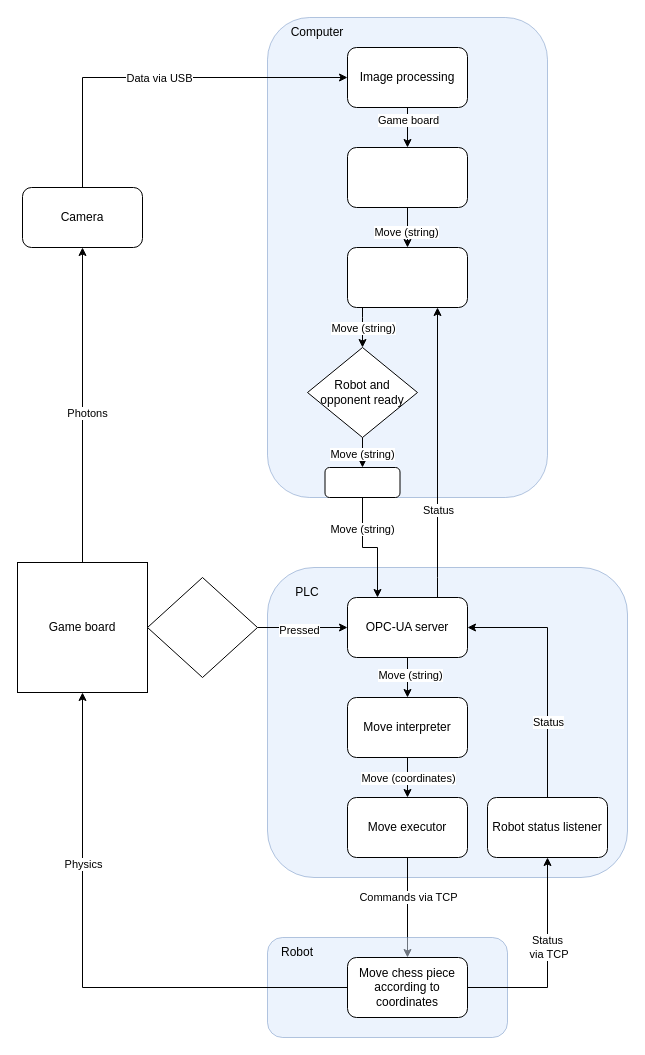
Image size: 645x1055. Some labels were removed from this diagram. The centre of each missing label's shape, as x and y in pixels:
Button (human move finished): the point at 202,627
OPC-UA client: the point at 407,277
Send move: the point at 362,482
Stockfish: the point at 407,177
